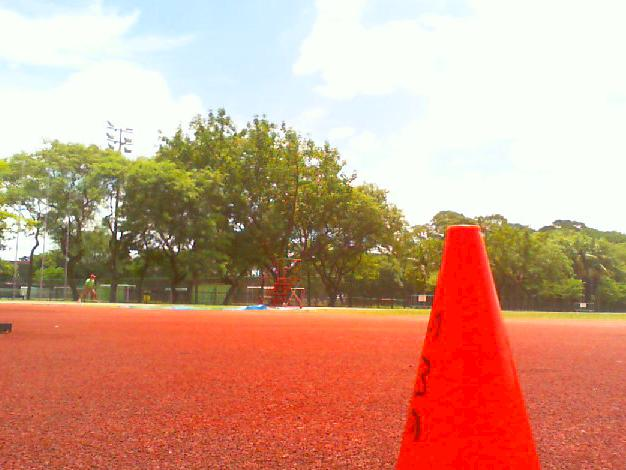0 cone: (392, 224, 542, 470)
